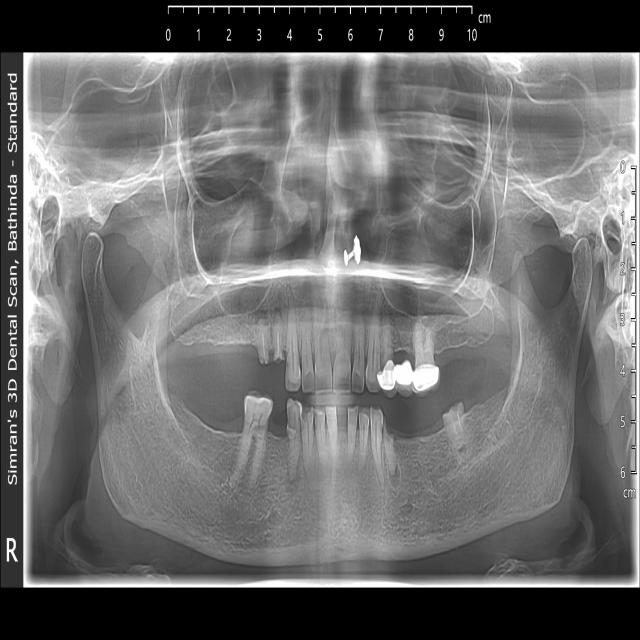Crown: (378, 358, 441, 393)
Missing teeth: (178, 403, 236, 468), (177, 331, 246, 369), (398, 417, 446, 469), (442, 340, 484, 386), (269, 427, 287, 462), (394, 327, 411, 356)
Periapical lesion: (283, 281, 299, 327), (298, 281, 315, 324), (285, 472, 300, 496), (389, 466, 401, 489), (273, 308, 282, 324)
Root Canal Treatment: (443, 406, 465, 450), (254, 317, 271, 361), (272, 314, 285, 362)
Root Piece: (300, 402, 318, 476), (382, 424, 396, 475)
